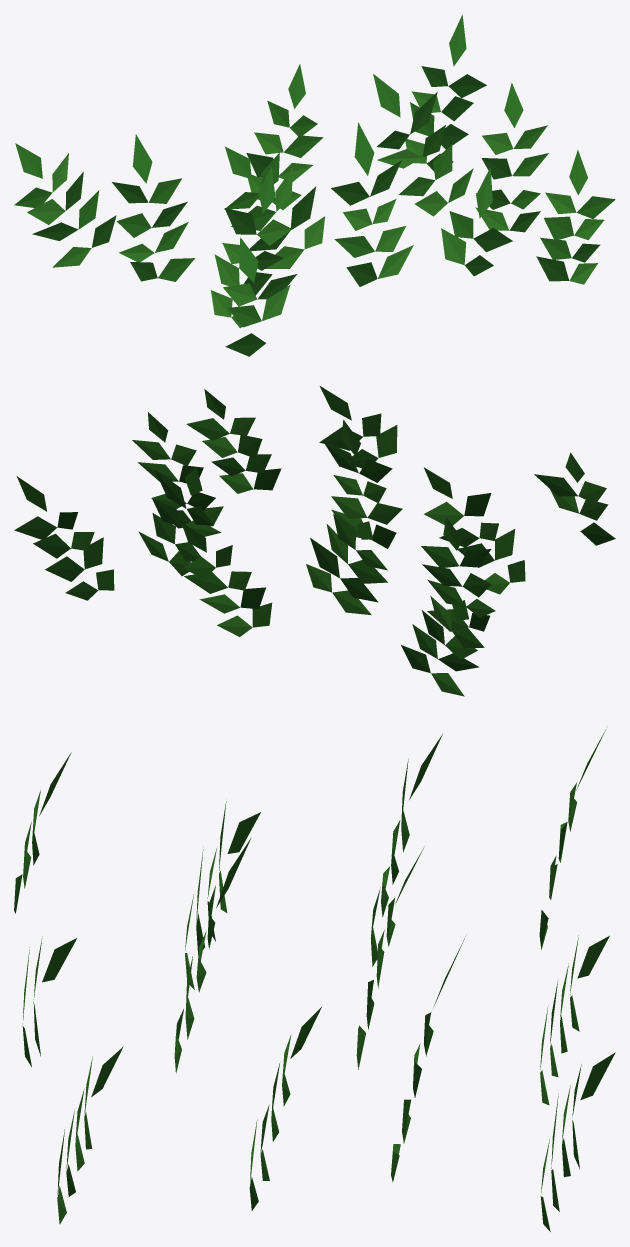
3 renders of one model, top to bottom at view 1: azimuth 30°, elevation 25°; view 2: azimuth 150°, elevation 25°; view 3: azimuth 270°, elevation 25°, orthographic. The views are drawn at different scales.
Visible parts, largest first — view 1: r14c2_l00; view 2: r14c2_l00; view 3: r14c2_l00.
Boxes of the visible parts, box(x1,y1,x2,y2) form: r14c2_l00: box(14, 14, 615, 356); r14c2_l00: box(14, 386, 615, 696); r14c2_l00: box(14, 729, 615, 1231).
Bounding box in the file's own units: 1.68 × 0.5526 × 1.15.
